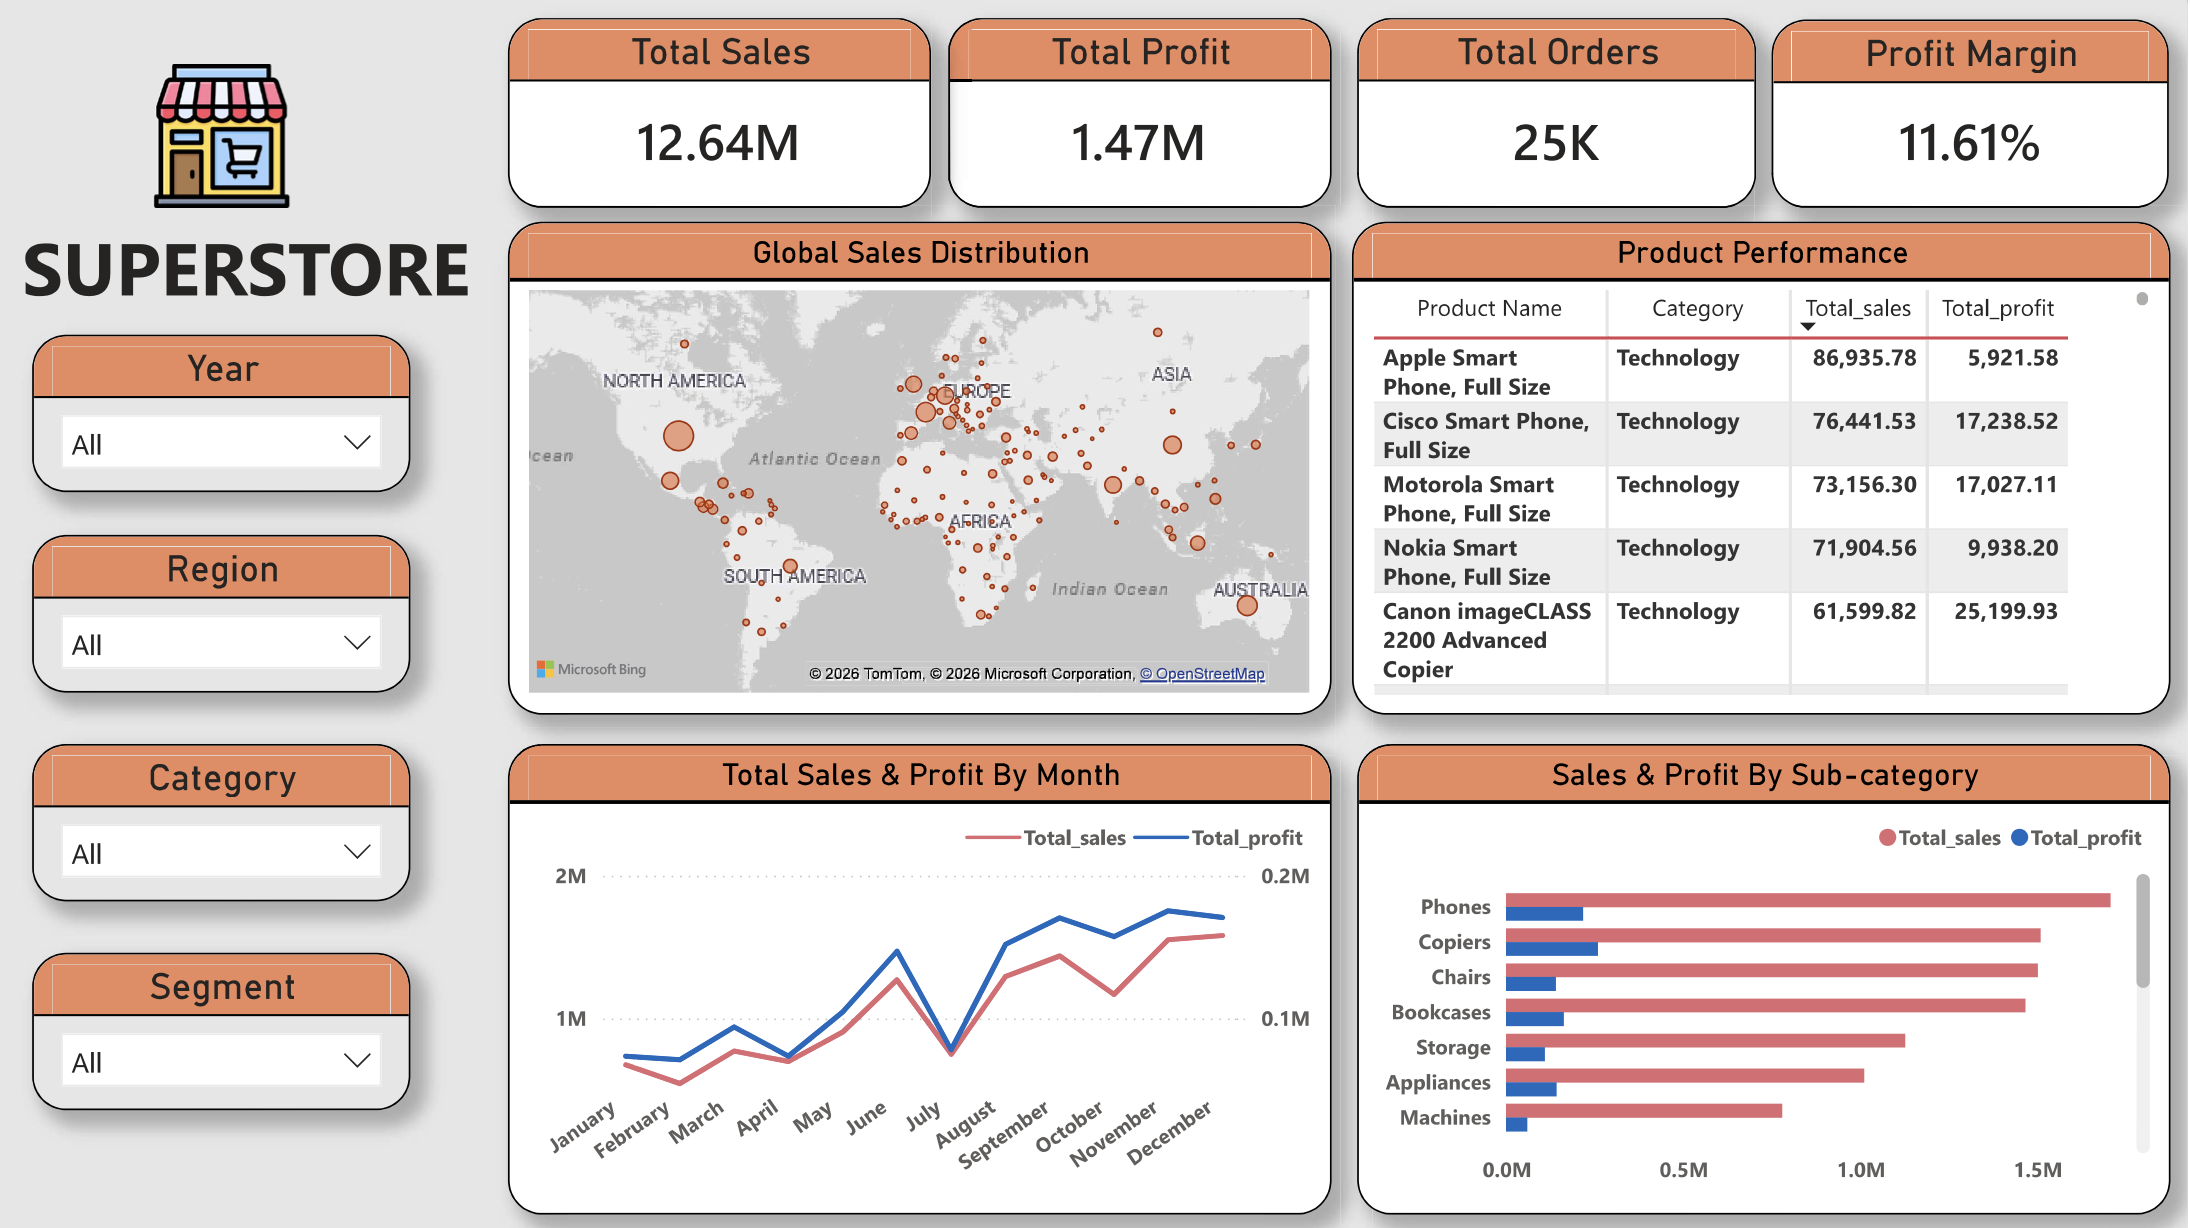

What the dashboard file says about the page in this screenshot:
{"tool":"powerbi","page":{"name":"Page 1","canvas":[1280,720],"ordinal":0},"visuals":[{"type":"shape","box":[14.2,4.3,262.2,710.1],"z":0},{"type":"cardVisual","title":"Total Profit","fields":{"Data":["Global_Superstore_Cleaned.Total_profit"]},"box":[555.6,11.3,223.9,110.6],"z":1000},{"type":"cardVisual","title":"Total Orders","fields":{"Data":["Global_Superstore_Cleaned.Total_orders"]},"box":[795.1,11.3,232.4,110.6],"z":2000},{"type":"cardVisual","title":"Profit Margin","fields":{"Data":["Global_Superstore_Cleaned.Profit_margin %"]},"box":[1036.8,11.5,232,110.9],"z":3000},{"type":"cardVisual","title":"Total Sales","fields":{"Data":["Global_Superstore_Cleaned.Total_sales"]},"box":[299.1,11.3,246.6,110.6],"z":4000},{"type":"lineChart","title":"Total Sales & Profit By Month","fields":{"Category":["DateTable.Date.Variation.Date Hierarchy.Month"],"Y":["Global_Superstore_Cleaned.Total_sales"],"Y2":["Global_Superstore_Cleaned.Total_profit"]},"box":[299.1,435.1,480.5,275],"z":5000},{"type":"clusteredBarChart","title":"Sales & Profit By Sub-category","fields":{"Y":["Global_Superstore_Cleaned.Total_sales","Global_Superstore_Cleaned.Total_profit"],"Category":["Global_Superstore_Cleaned.Sub-Category"]},"box":[795.1,435.1,474.8,275],"z":6000},{"type":"map","title":"Global Sales Distribution","fields":{"Size":["Global_Superstore_Cleaned.Total_sales"],"Category":["Global_Superstore_Cleaned.Country"]},"box":[299.1,130.4,480.5,287.7],"z":7000},{"type":"tableEx","title":"Product Performance","fields":{"Values":["Global_Superstore_Cleaned.Product Name","Global_Superstore_Cleaned.Category","Global_Superstore_Cleaned.Total_sales","Global_Superstore_Cleaned.Total_profit"]},"box":[792.3,130.4,477.6,287.7],"z":8000},{"type":"textbox","box":[9.9,121.9,272.1,73.7],"z":9000},{"type":"image","box":[31.2,38.3,201.3,83.6],"z":10000},{"type":"slicer","title":"Year","fields":{"Values":["Global_Superstore_Cleaned.Year"]},"box":[21.3,195.6,221.1,92.1],"z":11000},{"type":"slicer","title":"Region","fields":{"Values":["Global_Superstore_Cleaned.Region"]},"box":[21.3,313.2,221.1,92.1],"z":11001},{"type":"slicer","title":"Category","fields":{"Values":["Global_Superstore_Cleaned.Category"]},"box":[21.3,435.1,221.1,92.1],"z":11002},{"type":"slicer","title":"Segment","fields":{"Values":["Global_Superstore_Cleaned.Segment"]},"box":[21.3,557,221.1,92.1],"z":11003}]}

Visuals, with their boxes in screenshot pixels (x1, y1, x2, y2), scaled from the page's 1280x720 canvas onto the 2190x1228 screenshot:
shape: (24,7,473,1218)
"Total Profit" cardVisual: (951,19,1334,208)
"Total Orders" cardVisual: (1360,19,1758,208)
"Profit Margin" cardVisual: (1774,20,2171,209)
"Total Sales" cardVisual: (512,19,934,208)
"Total Sales & Profit By Month" lineChart: (512,742,1334,1211)
"Sales & Profit By Sub-category" clusteredBarChart: (1360,742,2173,1211)
"Global Sales Distribution" map: (512,222,1334,713)
"Product Performance" tableEx: (1356,222,2173,713)
textbox: (17,208,482,334)
image: (53,65,398,208)
"Year" slicer: (36,334,415,491)
"Region" slicer: (36,534,415,691)
"Category" slicer: (36,742,415,899)
"Segment" slicer: (36,950,415,1107)
